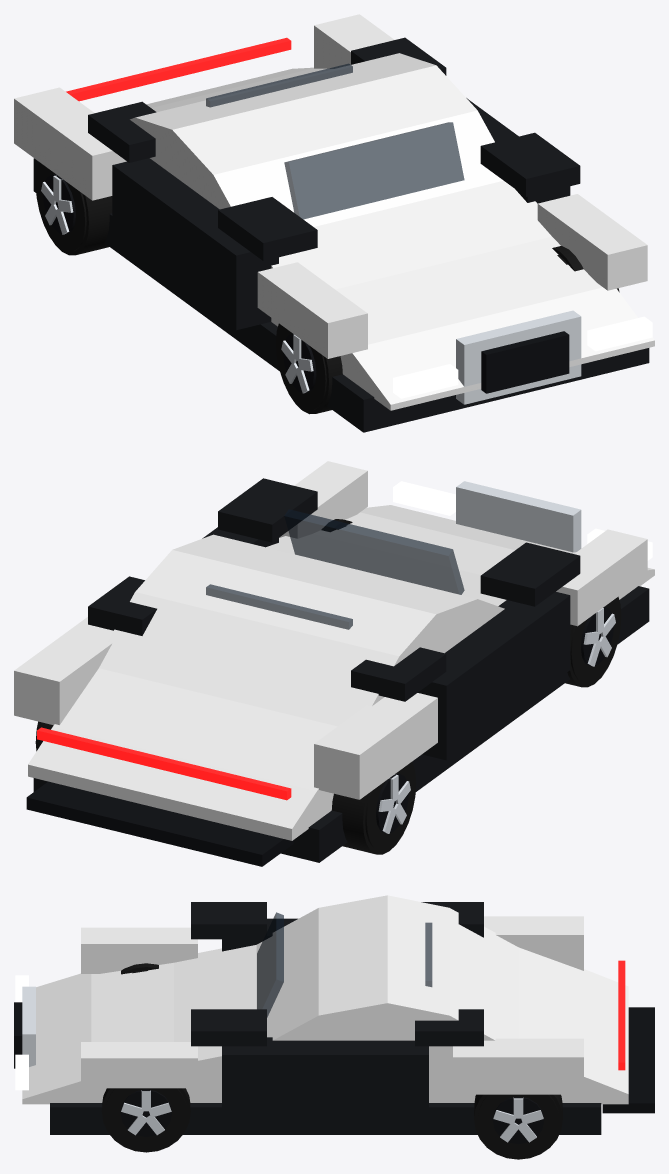
Rendered from baguetti-cerberus.glb.
The picture shows the model from 3 angles, top to bottom: view 1: azimuth 30°, elevation 25°; view 2: azimuth 150°, elevation 25°; view 3: azimuth 270°, elevation 25°; orthographic projection. The views are drawn at different scales.
Visible parts, largest first — view 1: chassis, glass, wheel-back-left, wheel-front-left; view 2: chassis, glass, wheel-back-left, wheel-front-left; view 3: chassis, wheel-back-right, wheel-front-right, glass.
Boxes of the visible parts, <box> form: chassis: <box>14,14,654,432</box>; glass: <box>284,122,464,219</box>; wheel-back-left: <box>35,162,112,255</box>; wheel-front-left: <box>276,323,342,414</box>; chassis: <box>14,461,654,866</box>; glass: <box>284,509,464,594</box>; wheel-back-left: <box>331,761,416,854</box>; wheel-front-left: <box>565,596,621,687</box>; chassis: <box>14,895,654,1134</box>; wheel-back-right: <box>474,1094,562,1159</box>; wheel-front-right: <box>101,1088,190,1152</box>; glass: <box>257,912,283,1017</box>.
Size of the model in its own units: 2.42 by 1.18 by 4.65.
